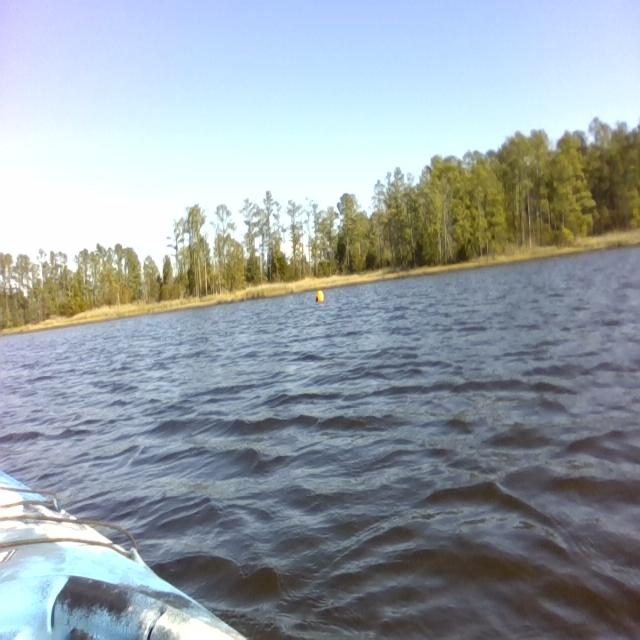Buoy: (309, 284, 331, 308)
